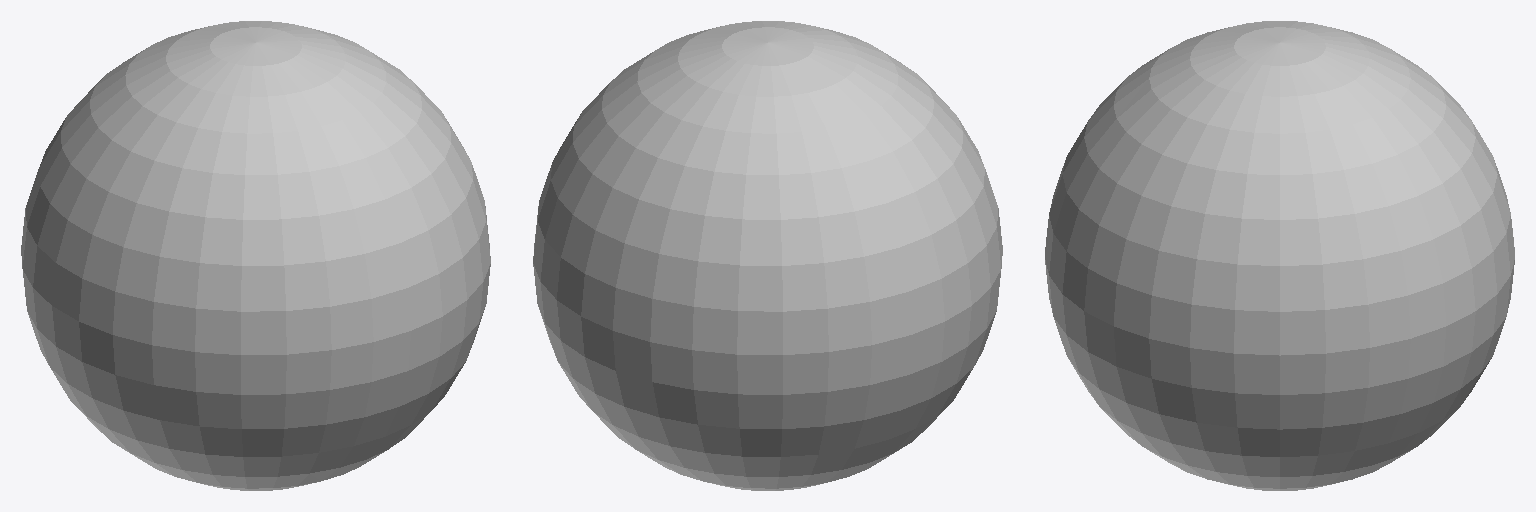
Rendered from bank_inside_alarm_top.obj.
3 views of the same model, side by side, from view 1: azimuth 30°, elevation 25°; view 2: azimuth 150°, elevation 25°; view 3: azimuth 270°, elevation 25° (orthographic).
Parts seen in each view (by area): view 1: Sphere.001; view 2: Sphere.001; view 3: Sphere.001.
Part boxes in pixels (left/top/right/bottom): Sphere.001: left=21, top=21, right=490, bottom=490; Sphere.001: left=533, top=21, right=1002, bottom=490; Sphere.001: left=1045, top=21, right=1514, bottom=490.
Size of the model in its own units: 0.18 by 0.18 by 0.18.